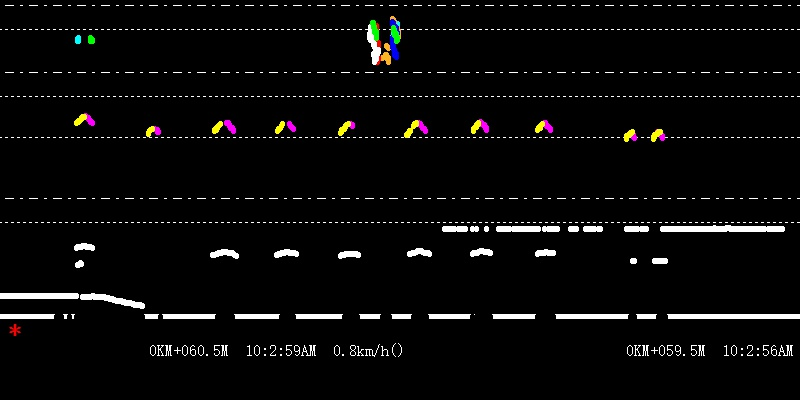J: (366, 3, 402, 67)
face_down: (83, 24, 97, 46), (70, 26, 83, 49)
star: (7, 322, 25, 336)
y_p: (201, 108, 564, 268)
